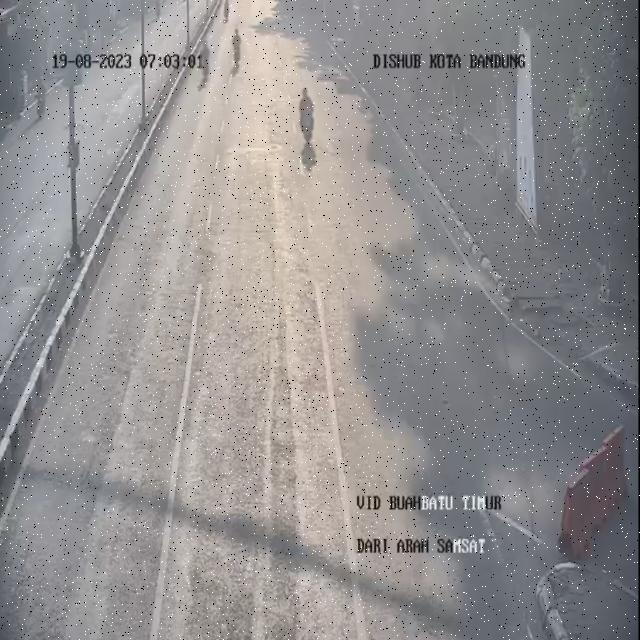motorcycle: (294, 84, 324, 174), (230, 28, 246, 76), (200, 39, 214, 82)
